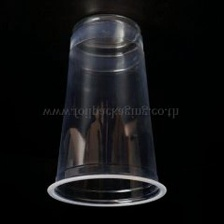glass: (43, 9, 172, 211)
